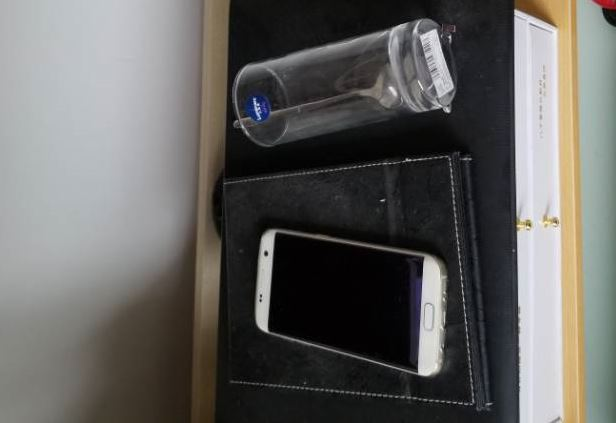mobil: (252, 224, 450, 379)
